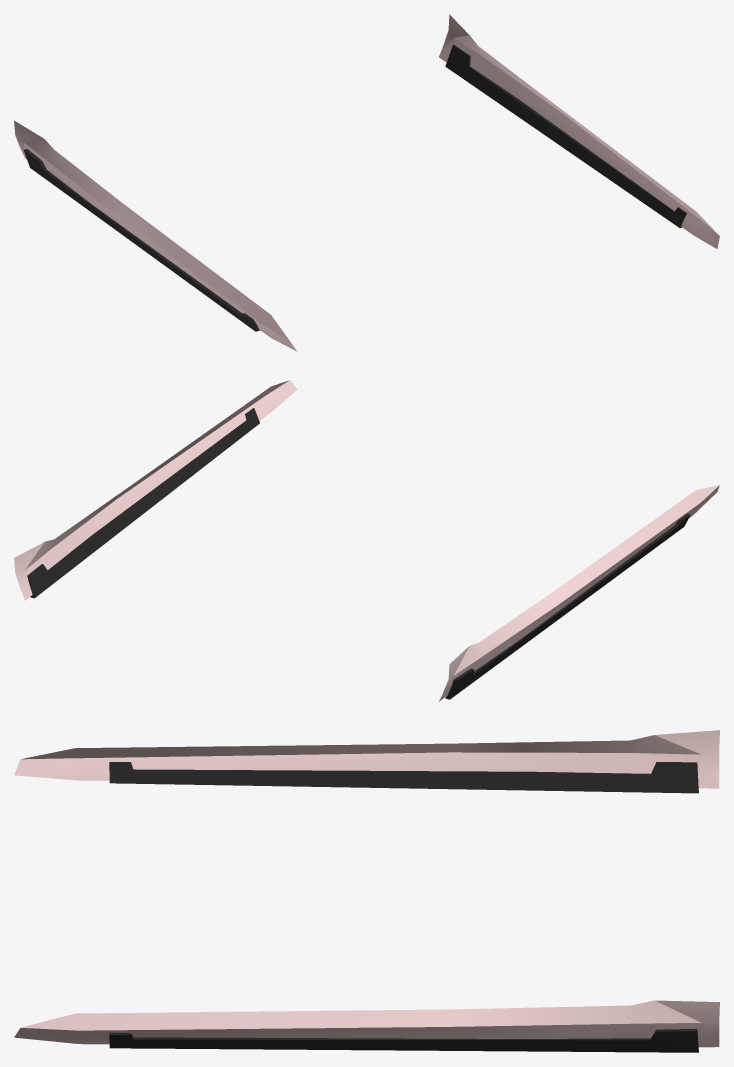
Rendered from Classic_14_SidePanel_3.fbx.
3 views of the same model, one above another, from view 1: azimuth 30°, elevation 25°; view 2: azimuth 150°, elevation 25°; view 3: azimuth 270°, elevation 25° (orthographic). The views are drawn at different scales.
Visible parts, largest first — view 1: Classic_14_SidePanel_3; view 2: Classic_14_SidePanel_3; view 3: Classic_14_SidePanel_3.
Part boxes in pixels (<box>): Classic_14_SidePanel_3: <box>14,14,719,351</box>; Classic_14_SidePanel_3: <box>14,380,719,701</box>; Classic_14_SidePanel_3: <box>14,730,719,1052</box>.
Bounding box in the file's own units: 203 × 19.13 × 220.
